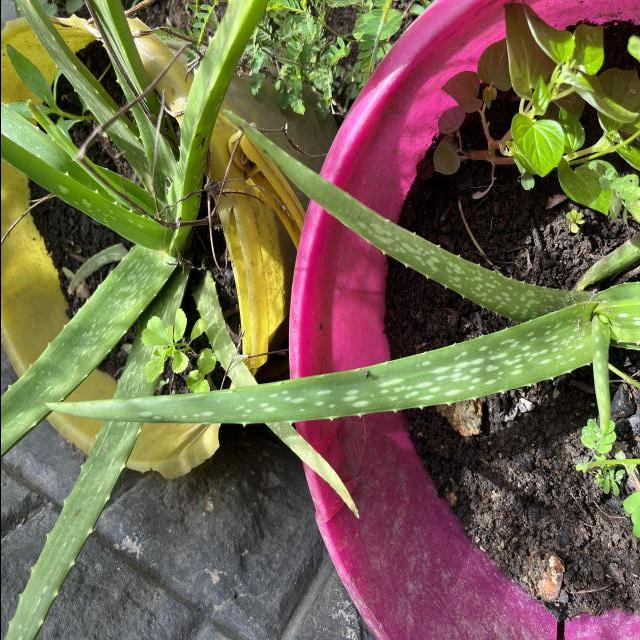Aloe vera: (40, 296, 600, 430)
